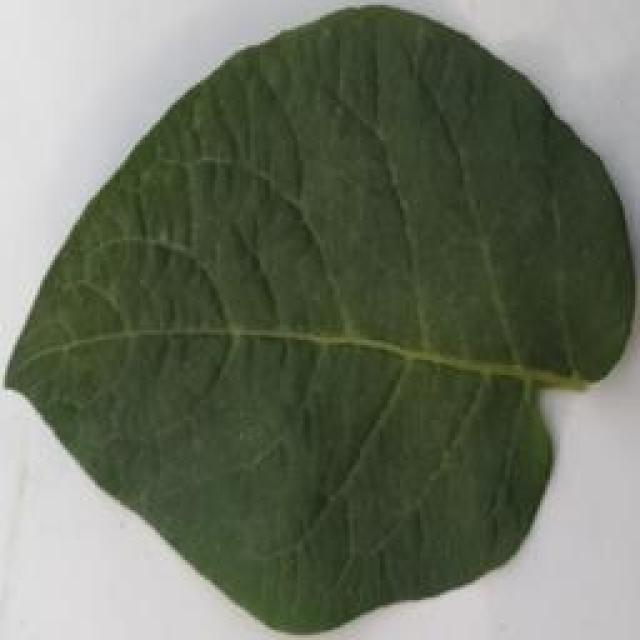Potato_Healthy: (1, 7, 631, 634)
